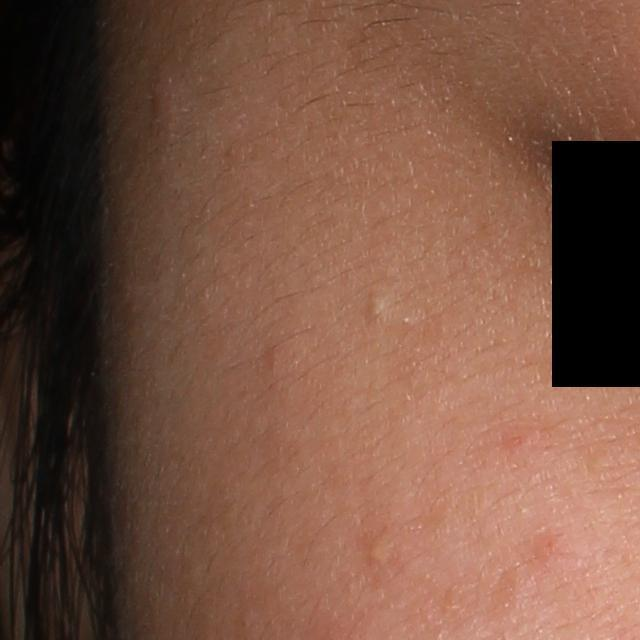comedo: (360, 530, 396, 569), (365, 287, 394, 322)
